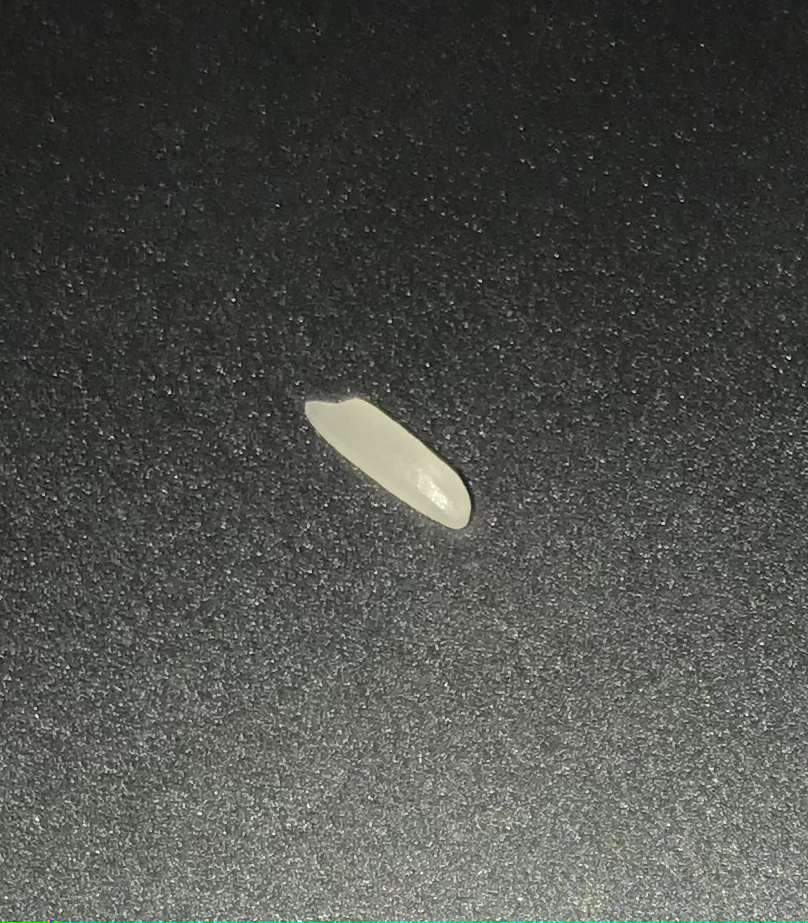Gao Thom My: (299, 389, 489, 550)
